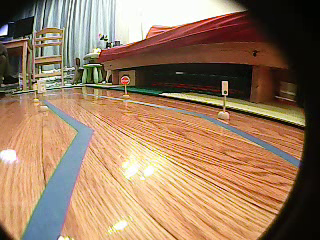Green Traffic Light: (221, 80, 229, 97)
Stop Sign: (120, 74, 131, 87)
